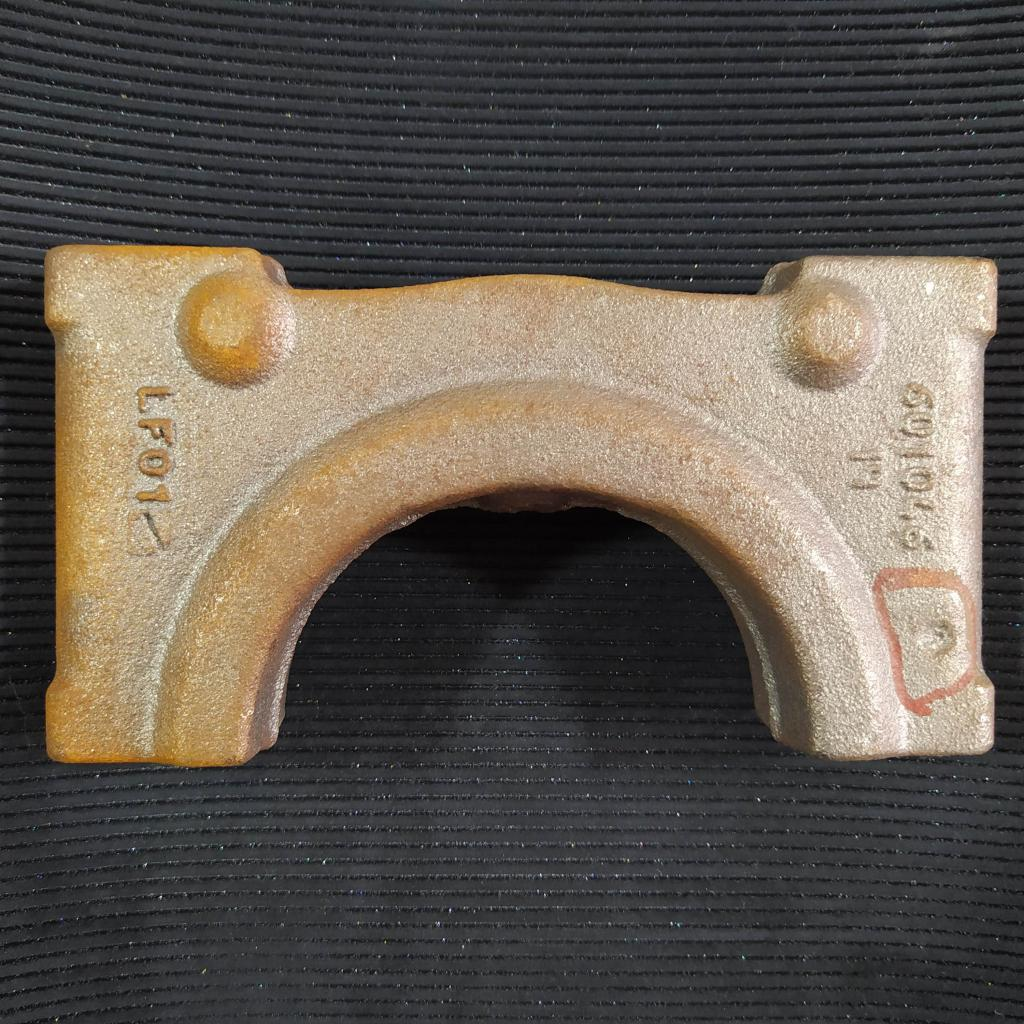buraco: (914, 615, 960, 665)
